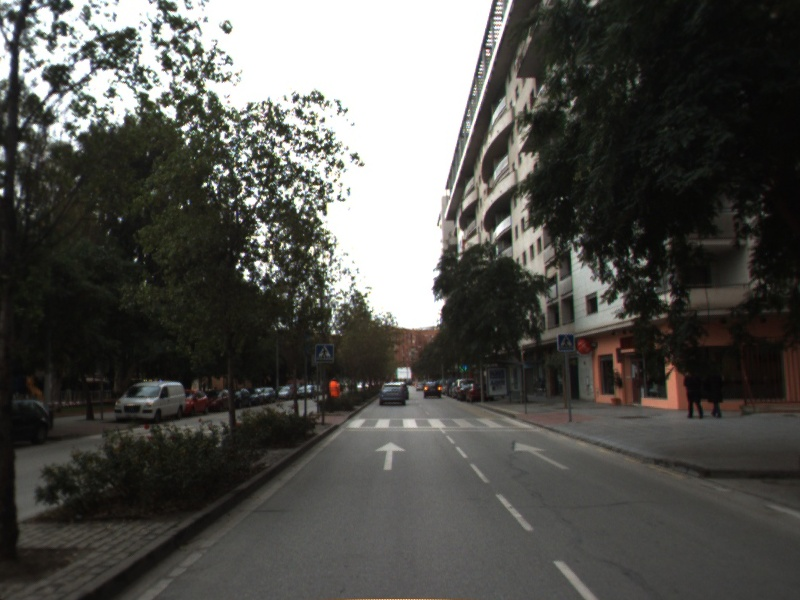STRAIGHT: (513, 440, 573, 472), (373, 440, 408, 472)
